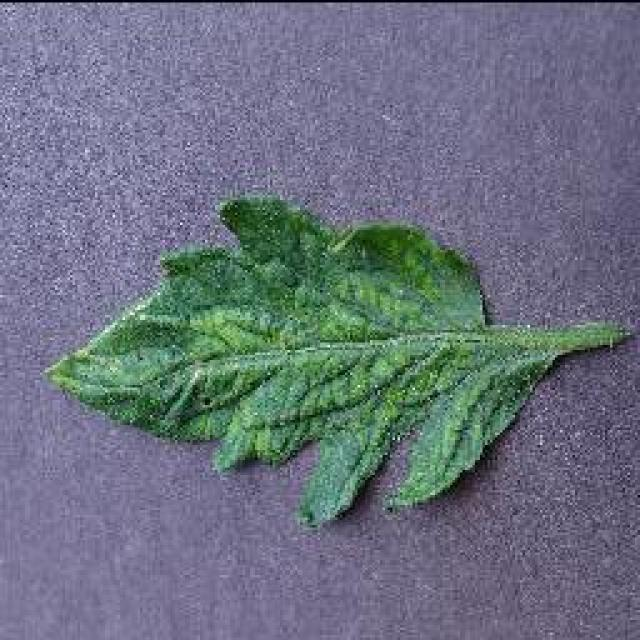Tomato___Tomato_mosaic_virus: (48, 195, 625, 522)
